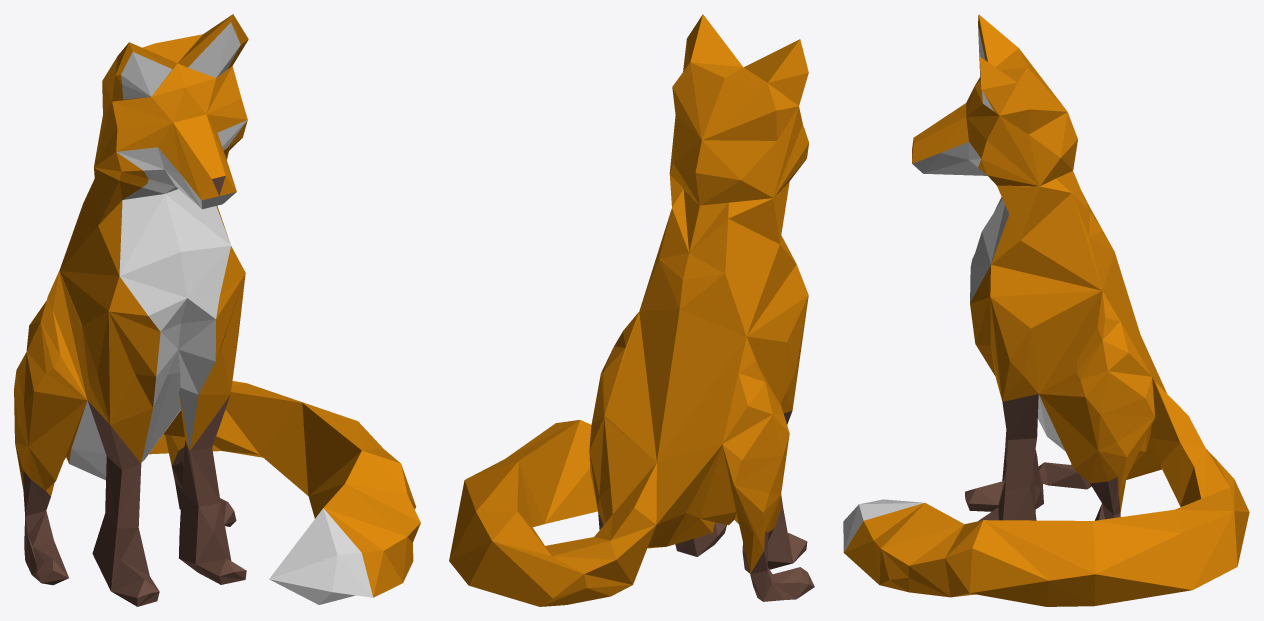
3 views of the same model, side by side, from view 1: azimuth 30°, elevation 25°; view 2: azimuth 150°, elevation 25°; view 3: azimuth 270°, elevation 25° (orthographic). The views are drawn at different scales.
Parts seen in each view (by area): view 1: node_MeshObject-898641600-PolyPaper13; view 2: node_MeshObject-898641600-PolyPaper13; view 3: node_MeshObject-898641600-PolyPaper13.
Part boxes in pixels (x1,y1,x2,y2): node_MeshObject-898641600-PolyPaper13: (14, 14, 420, 606); node_MeshObject-898641600-PolyPaper13: (449, 14, 814, 606); node_MeshObject-898641600-PolyPaper13: (843, 14, 1249, 606).
Bounding box in the file's own units: 2.51 × 3.88 × 2.92.
